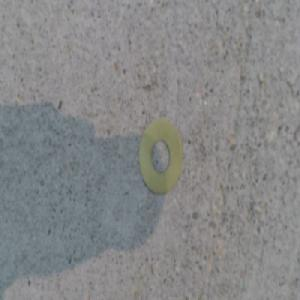Washer: (138, 116, 182, 194)
